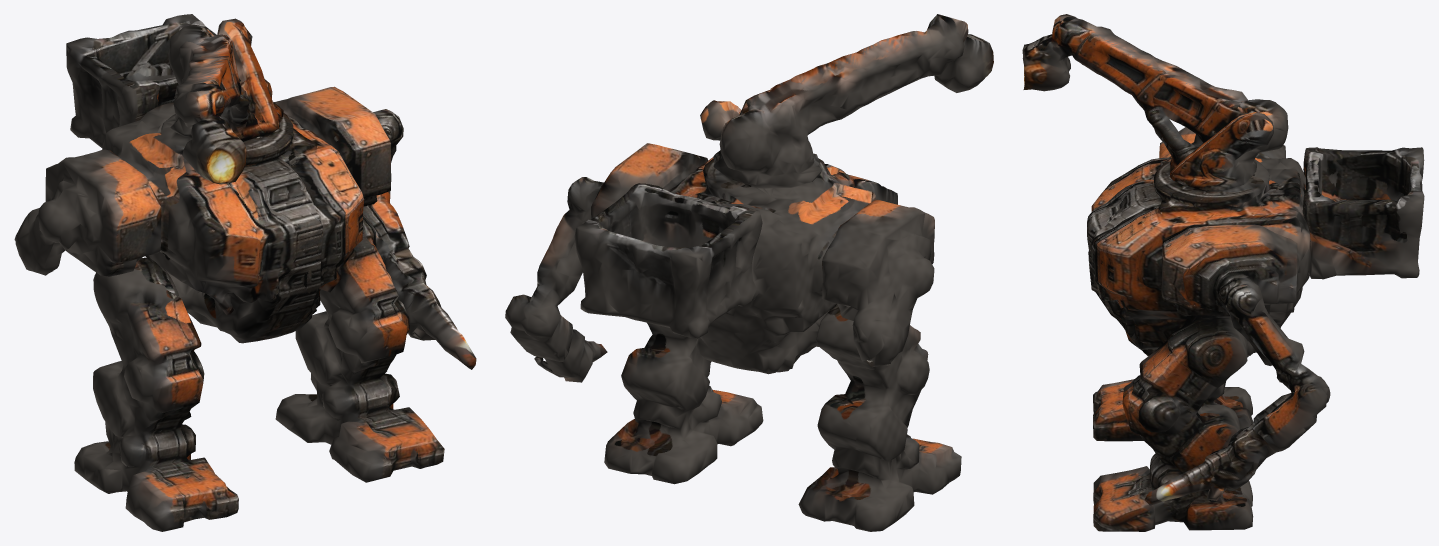
File: riveter_lod0.glb
3 views of the same model, side by side, from view 1: azimuth 30°, elevation 25°; view 2: azimuth 150°, elevation 25°; view 3: azimuth 270°, elevation 25° (orthographic). The views are drawn at different scales.
Parts seen in each view (by area): view 1: geometry_0; view 2: geometry_0; view 3: geometry_0.
Boxes of the visible parts, box(x1,y1,x2,y2) form: geometry_0: box(14, 14, 476, 531); geometry_0: box(505, 14, 993, 531); geometry_0: box(1022, 14, 1424, 531).
Size of the model in its own units: 1.84 by 2 by 1.81.
Materials: 1 (1 with a texture image).
